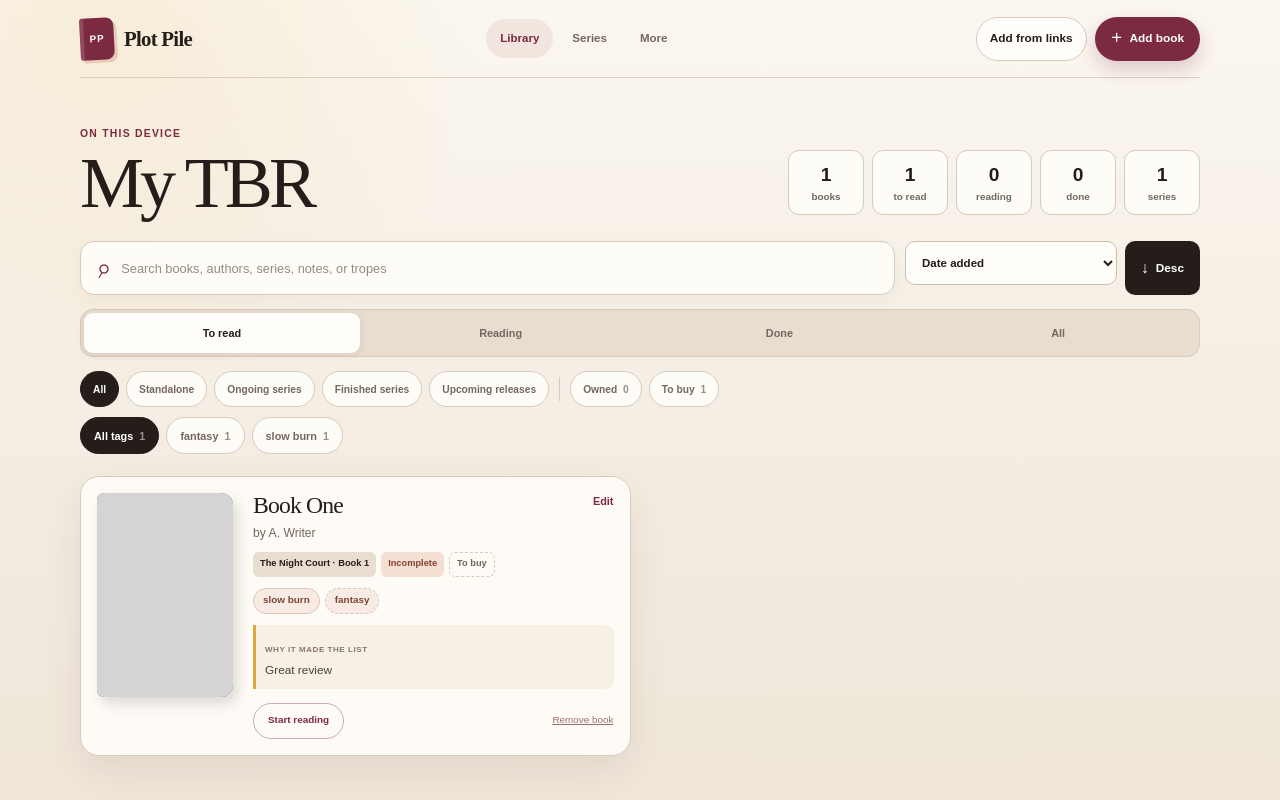
Plot Pile behavior › marks a book as bought from its card and filters by ownership
Expected: the heading "Book One" is shown, top-left (253, 493), bottom-right (343, 518)
Click the button "Owned 0" at (606, 389), box top-left (570, 371), bottom-right (642, 407)
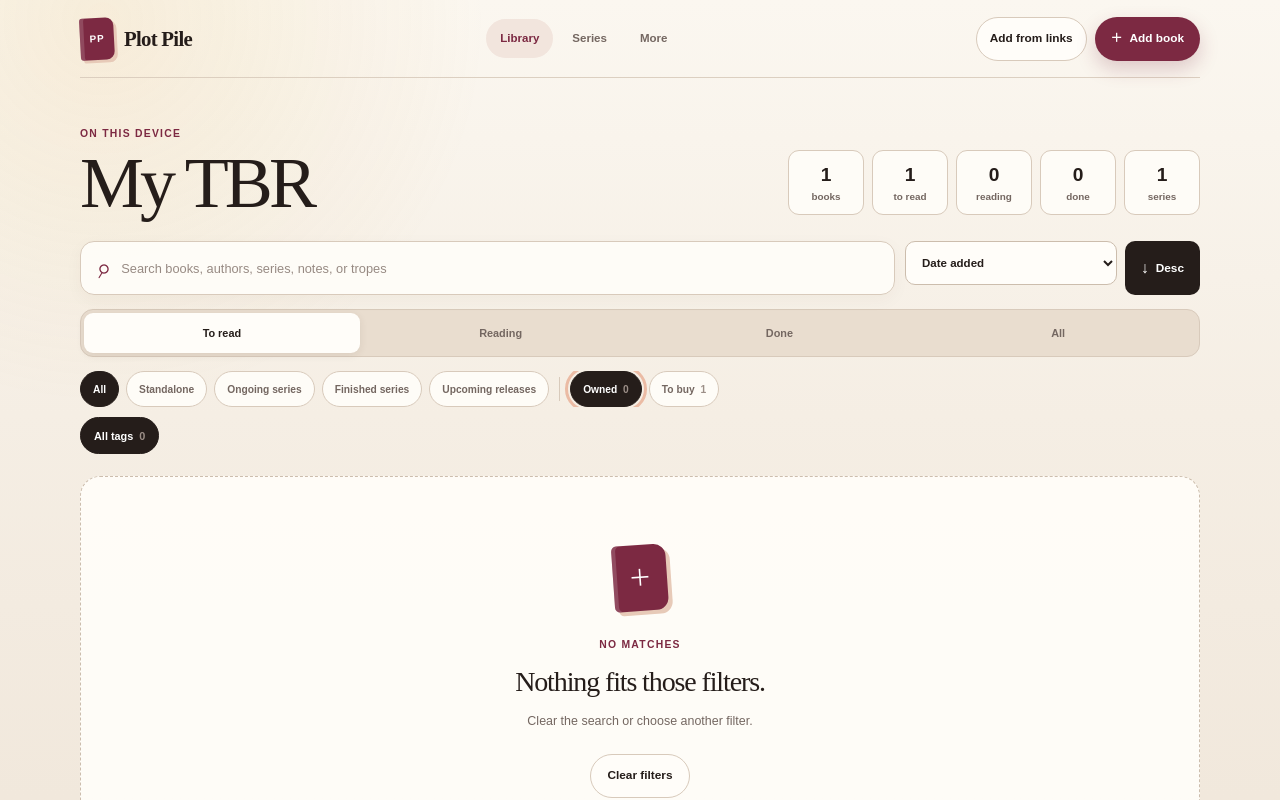
Expected: the text "No matches" is shown, top-left (599, 637), bottom-right (681, 652)
Click the button "To buy 1" at (684, 389), box top-left (649, 371), bottom-right (719, 407)
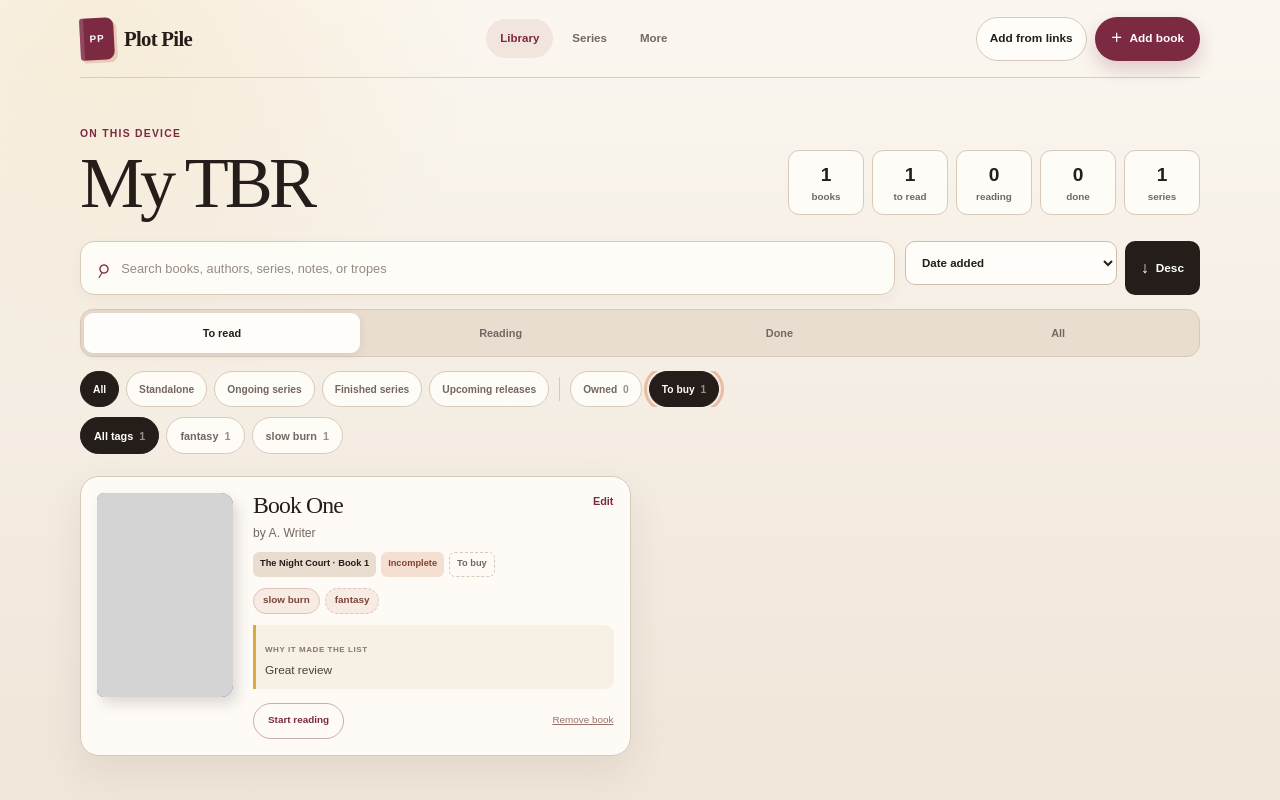
Expected: the heading "Book One" is shown, top-left (253, 493), bottom-right (343, 518)
Click the button with aria-label "Book One is still to buy. Mark as owned" at (472, 564), box top-left (449, 552), bottom-right (495, 577)
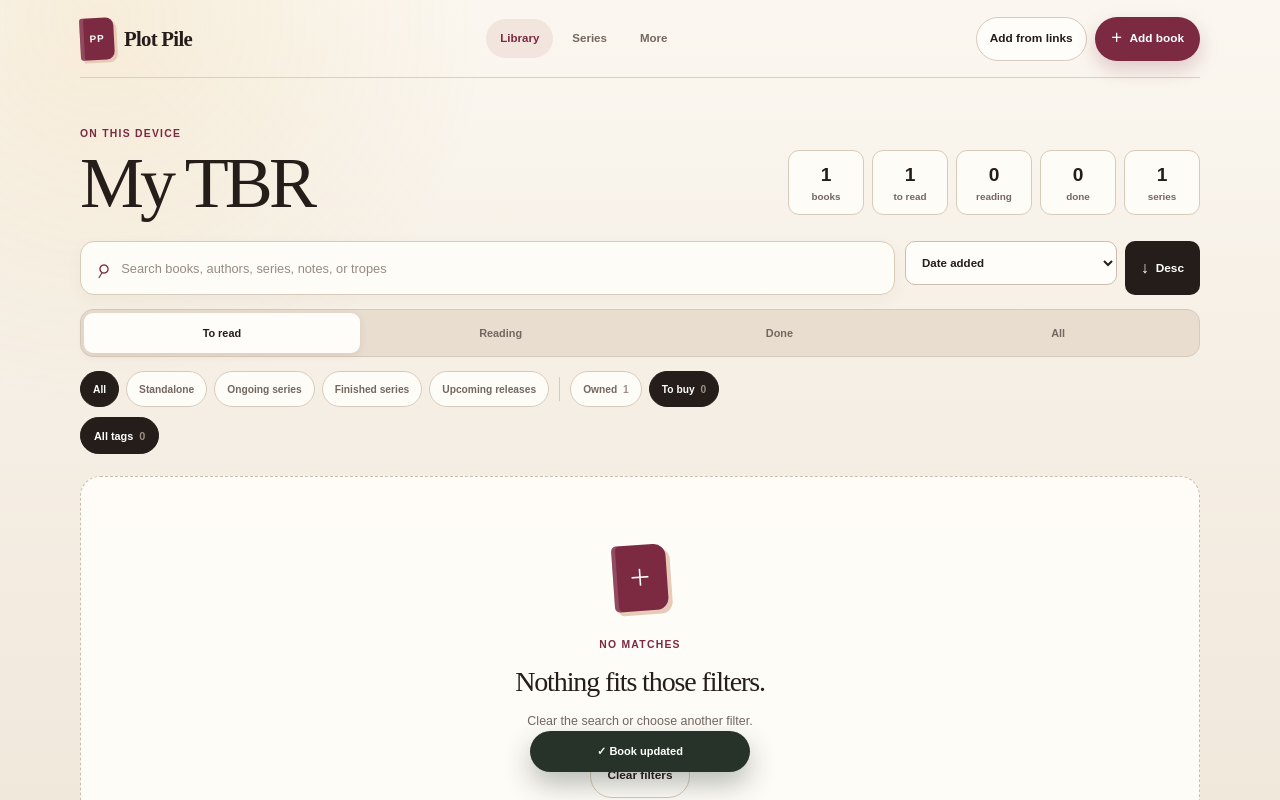
Expected: the text "No matches" is shown, top-left (599, 637), bottom-right (681, 652)
Expected: the button "To buy 0" is shown, top-left (649, 371), bottom-right (719, 407)
Click the button "Owned 1" at (606, 389), box top-left (570, 371), bottom-right (642, 407)
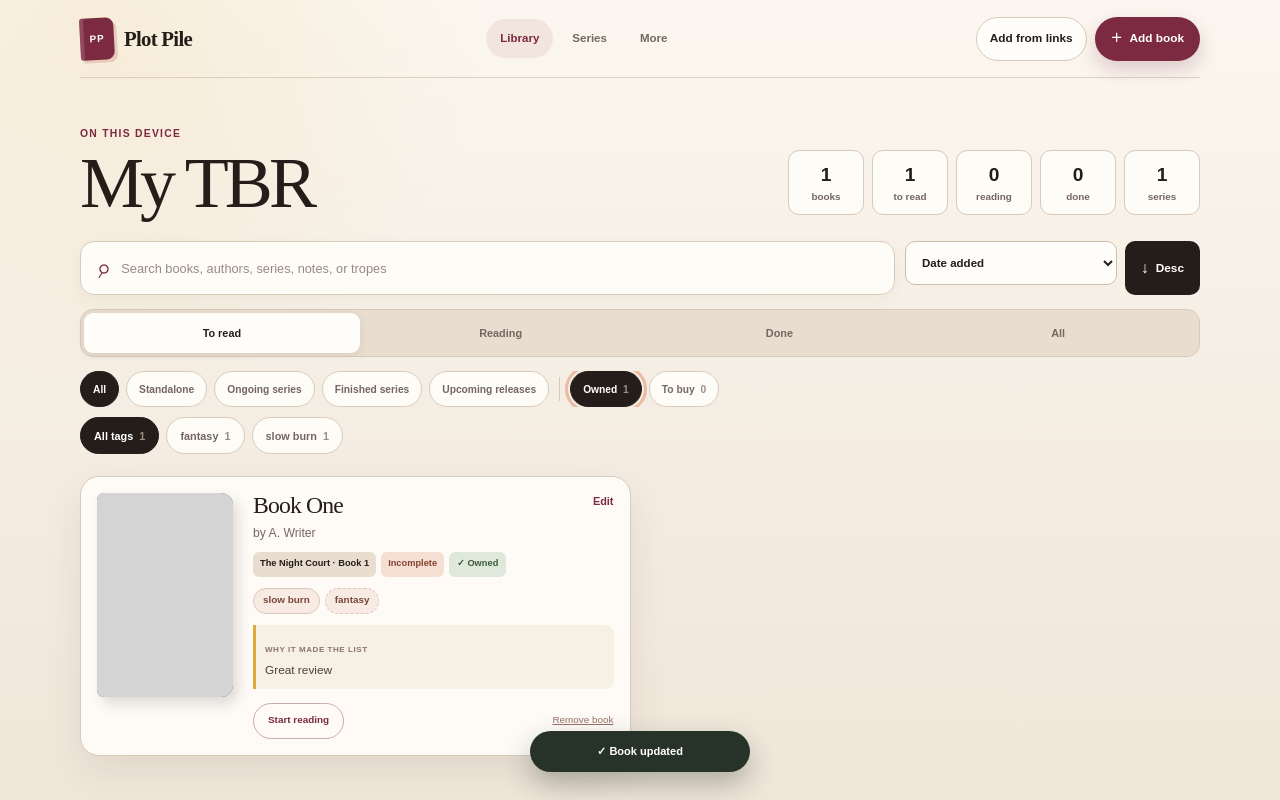
Expected: the button with aria-label "Book One is owned. Mark as still to buy" is shown, top-left (449, 552), bottom-right (506, 577)
